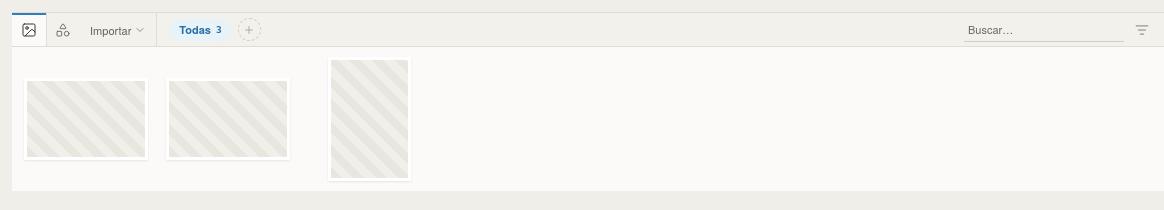
hydrates a shared thumbnail size and publishes changes without a tab
Step 1. Click the button named "Filtro, ordem e tamanho" → (1142, 30), box top-left (1128, 16), bottom-right (1156, 44)
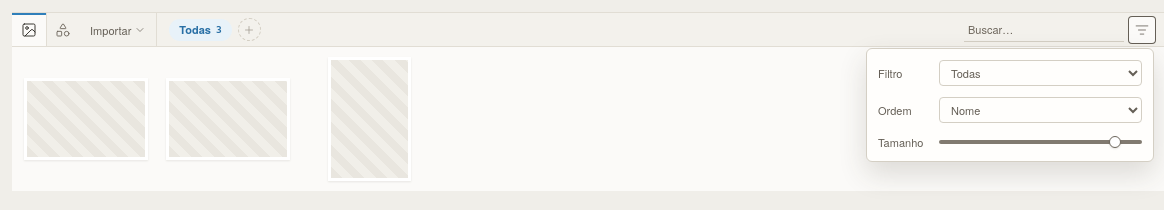
expect the slider named "Tamanho das miniaturas" holds "124": met
Step 2. Set the slider named "Tamanho das miniaturas" to "126" → (1119, 142), box top-left (939, 134), bottom-right (1142, 150)
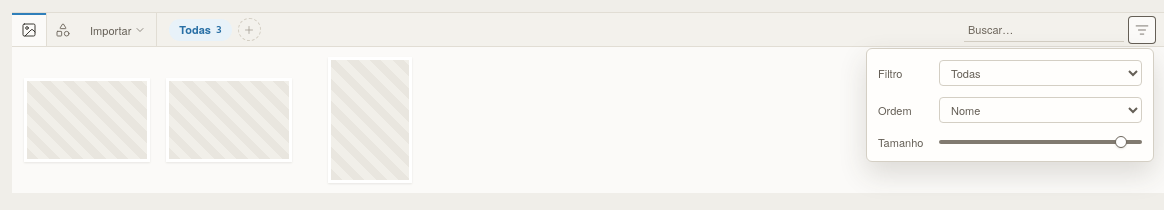
Step 3. Click the button named "Decorativos" → (63, 30), box top-left (46, 13), bottom-right (80, 46)
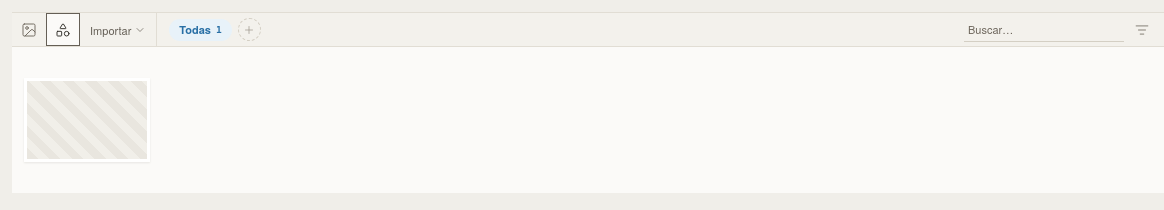
Step 4. Click the button named "Filtro, ordem e tamanho" → (1142, 30), box top-left (1128, 16), bottom-right (1156, 44)
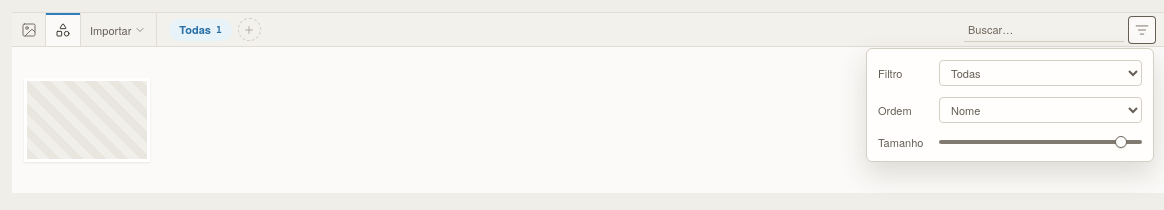
expect the slider named "Tamanho das miniaturas" holds "126": met, box top-left (939, 134), bottom-right (1142, 150)
